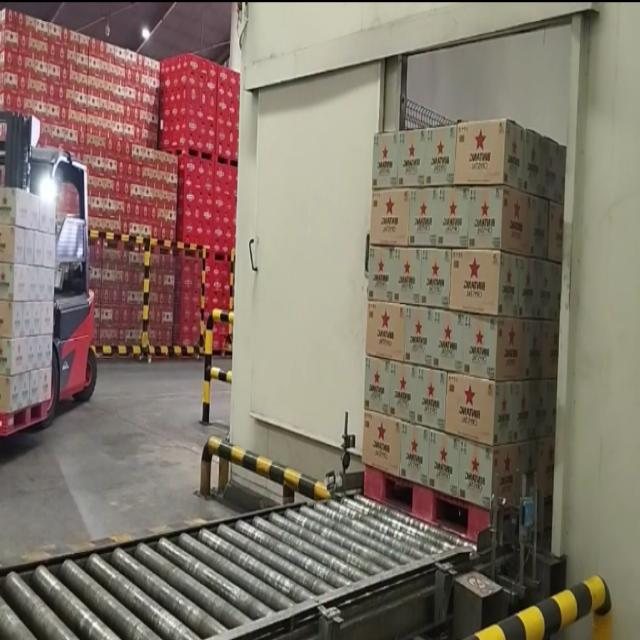pallet: (352, 95, 562, 562), (0, 172, 66, 444)
